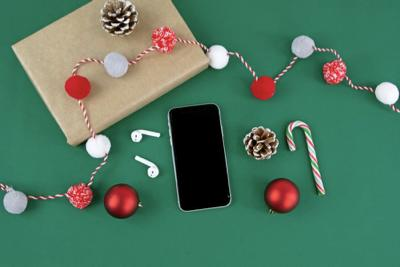Mobile Phone: (166, 101, 232, 212)
